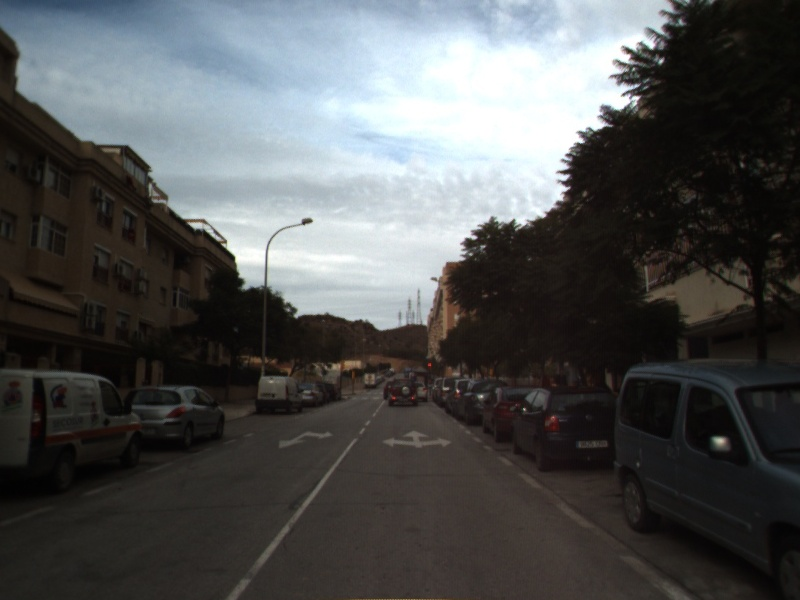STRAIGHT_LEFT_RIGHT: (380, 428, 454, 450)
